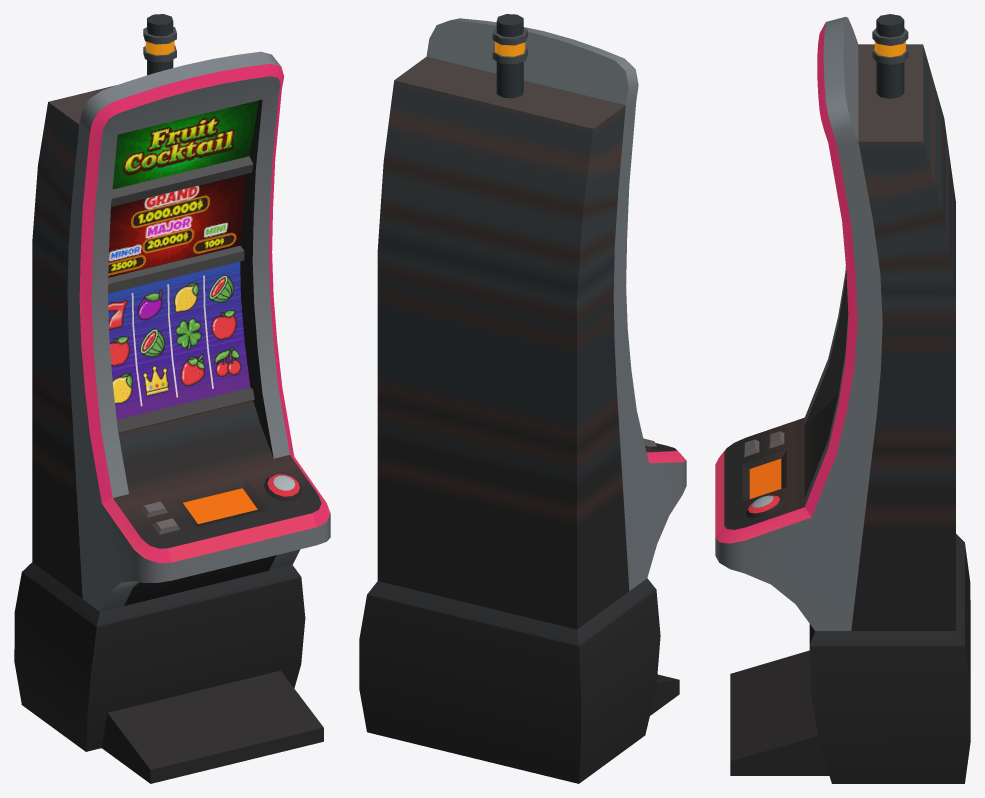
File: slot-machine-01.glb
3 renders of one model, left to right at view 1: azimuth 30°, elevation 25°; view 2: azimuth 150°, elevation 25°; view 3: azimuth 270°, elevation 25°, orthographic. The views are drawn at different scales.
Parts seen in each view (by area): view 1: Slot_Machine_01, Slot_03, Slot_04, Slot_02, Slot_01; view 2: Slot_Machine_01; view 3: Slot_Machine_01.
Part boxes in pixels (bbox=[...]): Slot_Machine_01: bbox=[14, 14, 330, 783]; Slot_03: bbox=[174, 282, 205, 386]; Slot_04: bbox=[208, 274, 241, 376]; Slot_02: bbox=[137, 289, 169, 396]; Slot_01: bbox=[108, 299, 132, 404]; Slot_Machine_01: bbox=[359, 14, 686, 783]; Slot_Machine_01: bbox=[715, 14, 970, 783].
Size of the model in its own units: 0.8624 by 2.64 by 0.8581.
4 materials, 4 textured.
